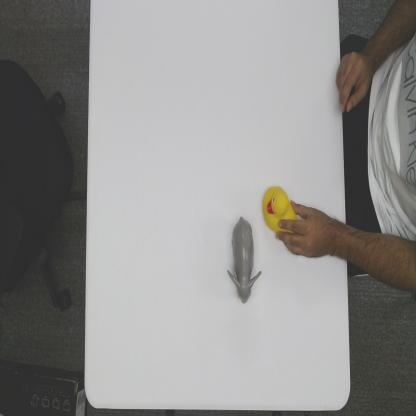Arm: (332, 219, 350, 260)
Duck: (260, 181, 299, 236)
Elephant: (226, 214, 262, 305)
Hand: (275, 199, 332, 260)
